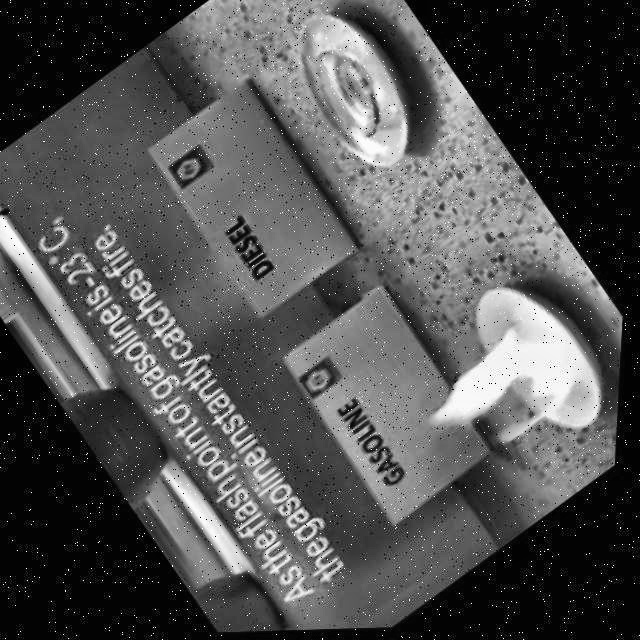Fire: (405, 289, 621, 495)
